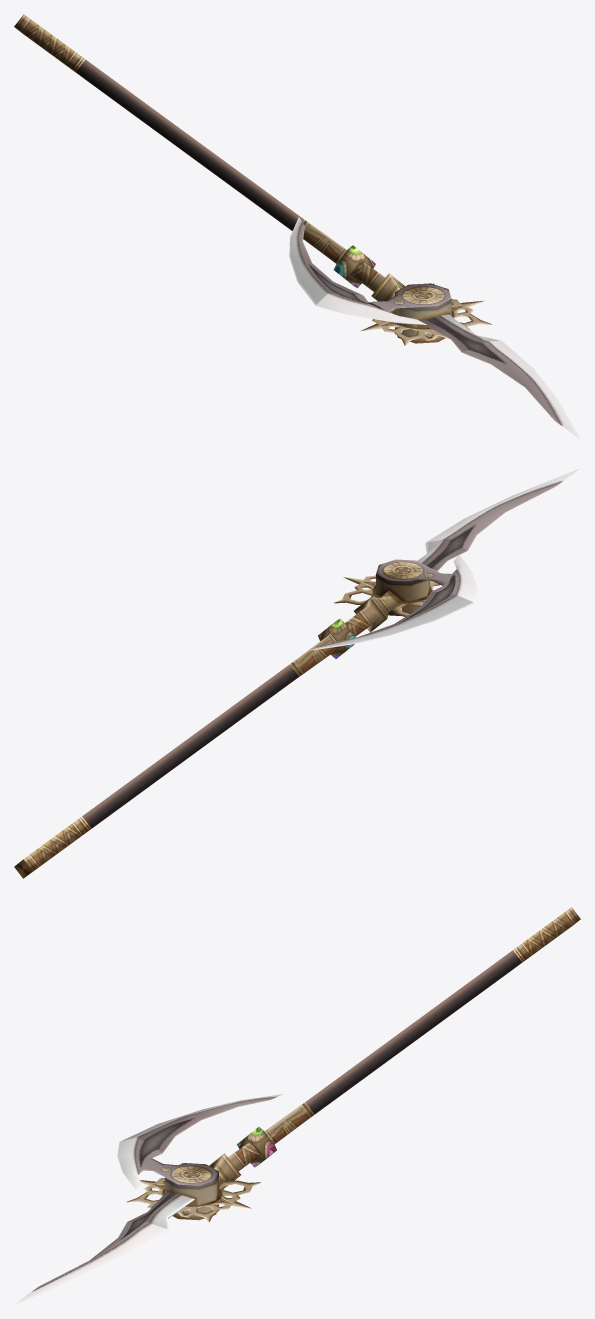
File: lance5008.fbx
3 views of the same model, one above another, from view 1: azimuth 30°, elevation 25°; view 2: azimuth 150°, elevation 25°; view 3: azimuth 330°, elevation 25° (orthographic). The views are drawn at different scales.
Parts seen in each view (by area): view 1: lance5008; view 2: lance5008; view 3: lance5008.
Part boxes in pixels (bbox=[...]): lance5008: bbox=[14, 14, 580, 439]; lance5008: bbox=[14, 468, 579, 878]; lance5008: bbox=[14, 907, 580, 1304].
Size of the model in its own units: 0.2719 by 0.0818 by 1.75.
